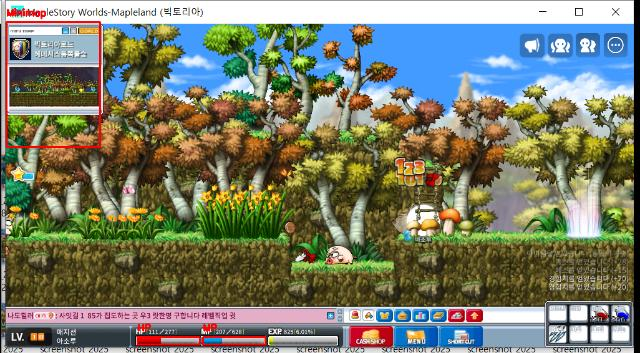me: (406, 202, 439, 246)
pig: (324, 246, 354, 264), (6, 213, 20, 235)
